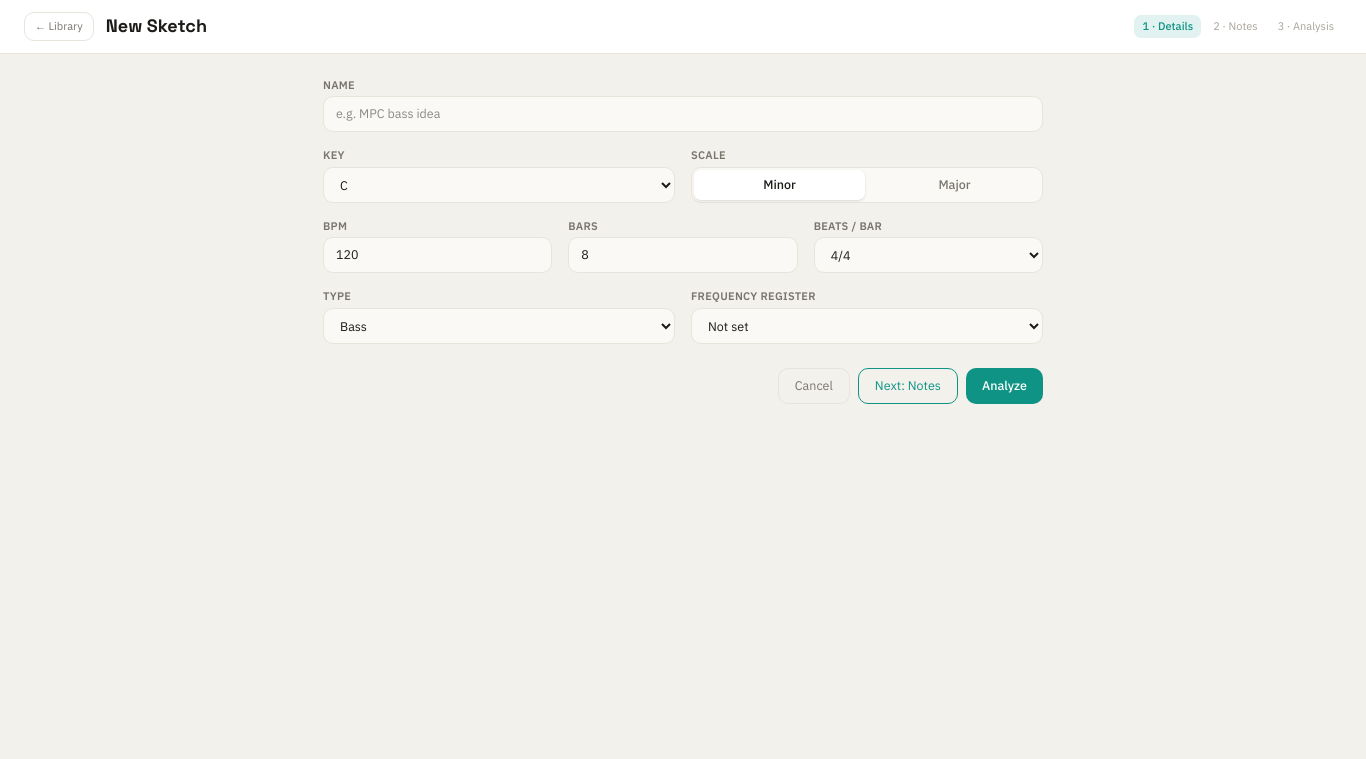
Test: SketchWizard — results step › shows out-of-scale warning when present
The width and height of the screenshot is (1366, 759).
Click the button "Analyze" at (1004, 386), box [966,368,1043,404]
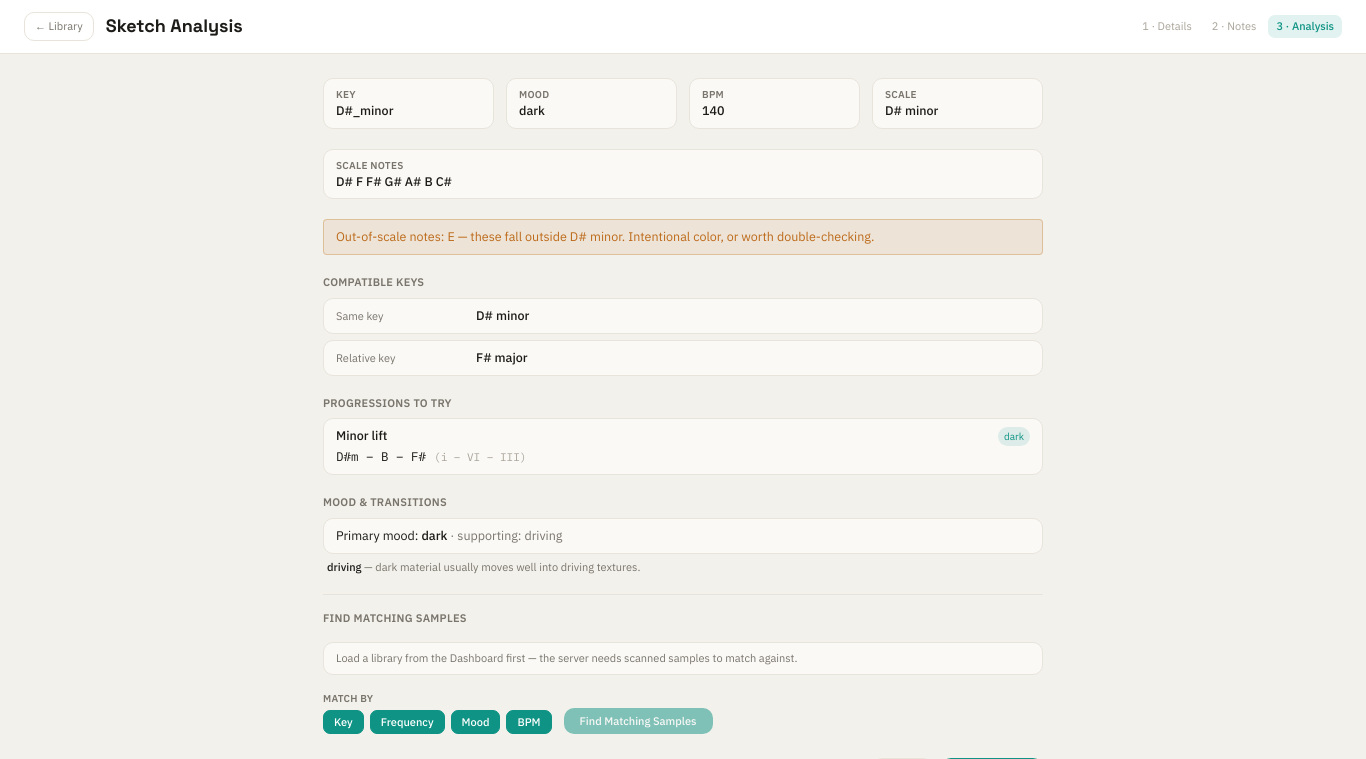
Expected: the heading "Sketch Analysis" is shown, [106,12,243,40]
Expected: the text "Out-of-scale notes: E" is shown, [323,219,1043,255]
